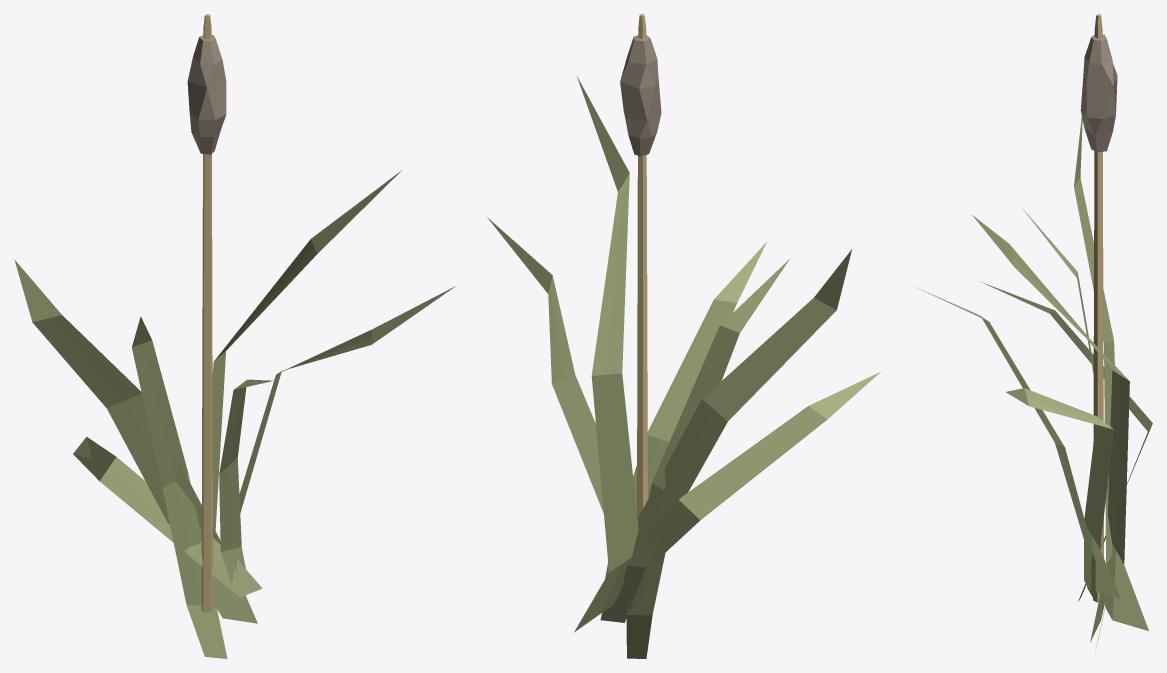
File: ER_Asset_Reed02.fbx
The picture shows the model from 3 angles, left to right: view 1: azimuth 30°, elevation 25°; view 2: azimuth 150°, elevation 25°; view 3: azimuth 270°, elevation 25°; orthographic projection. The views are drawn at different scales.
Visible parts, largest first — view 1: polySurface2213; view 2: polySurface2213; view 3: polySurface2213.
Boxes of the visible parts, left/top/right/bottom form: polySurface2213: left=14, top=14, right=455, bottom=658; polySurface2213: left=486, top=14, right=881, bottom=658; polySurface2213: left=913, top=14, right=1152, bottom=650.
Bounding box in the file's own units: 1.5 × 2.29 × 0.7932.
